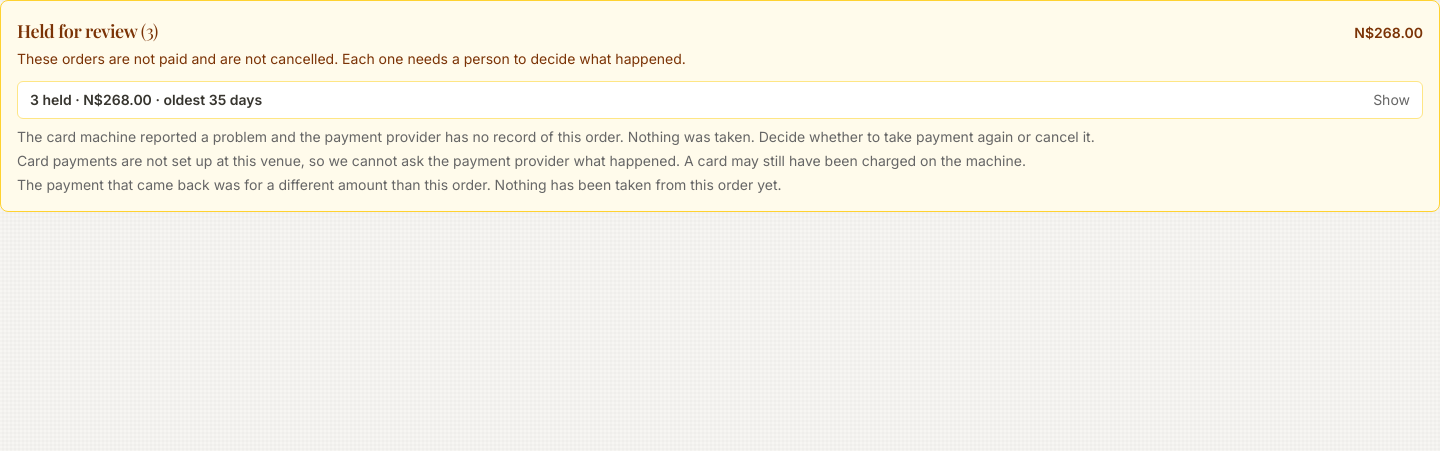
Test: #353 the populated panel › PINNED: "A card may still have been charged on the machine." reaches the screen
What coordinates should you click on to do the following:
click the button with test id "held-for-review-summary"
I would click on:
 (61, 100)
Its box is left=17, top=81, right=1423, bottom=119.
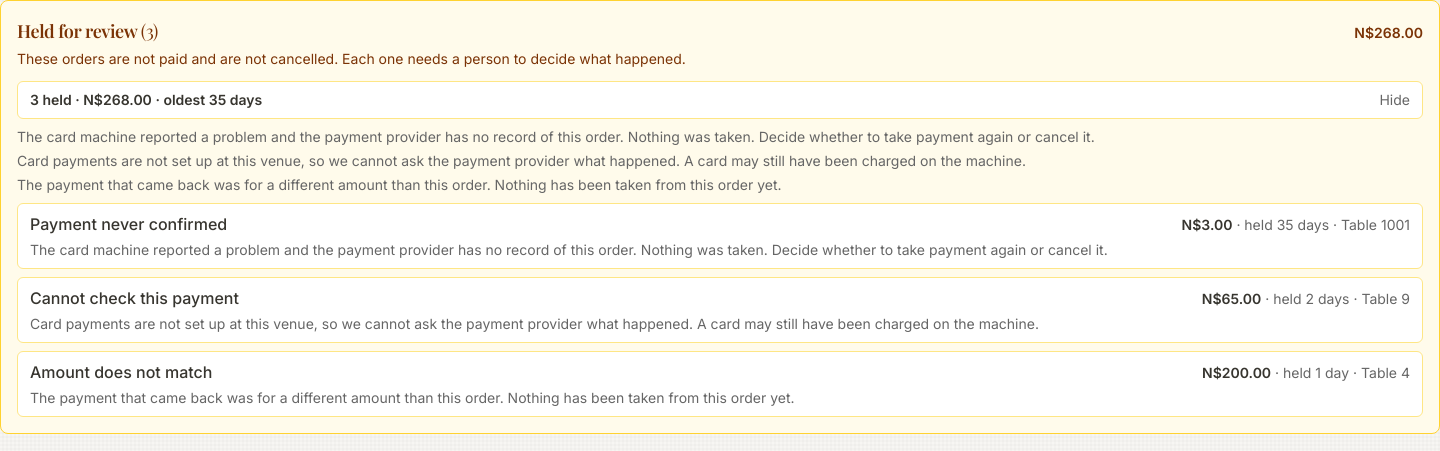
Check: the list item with test id "held-for-review-row" shows "A card may still have been charged on the machine.", box left=30, top=315, right=1039, bottom=332
